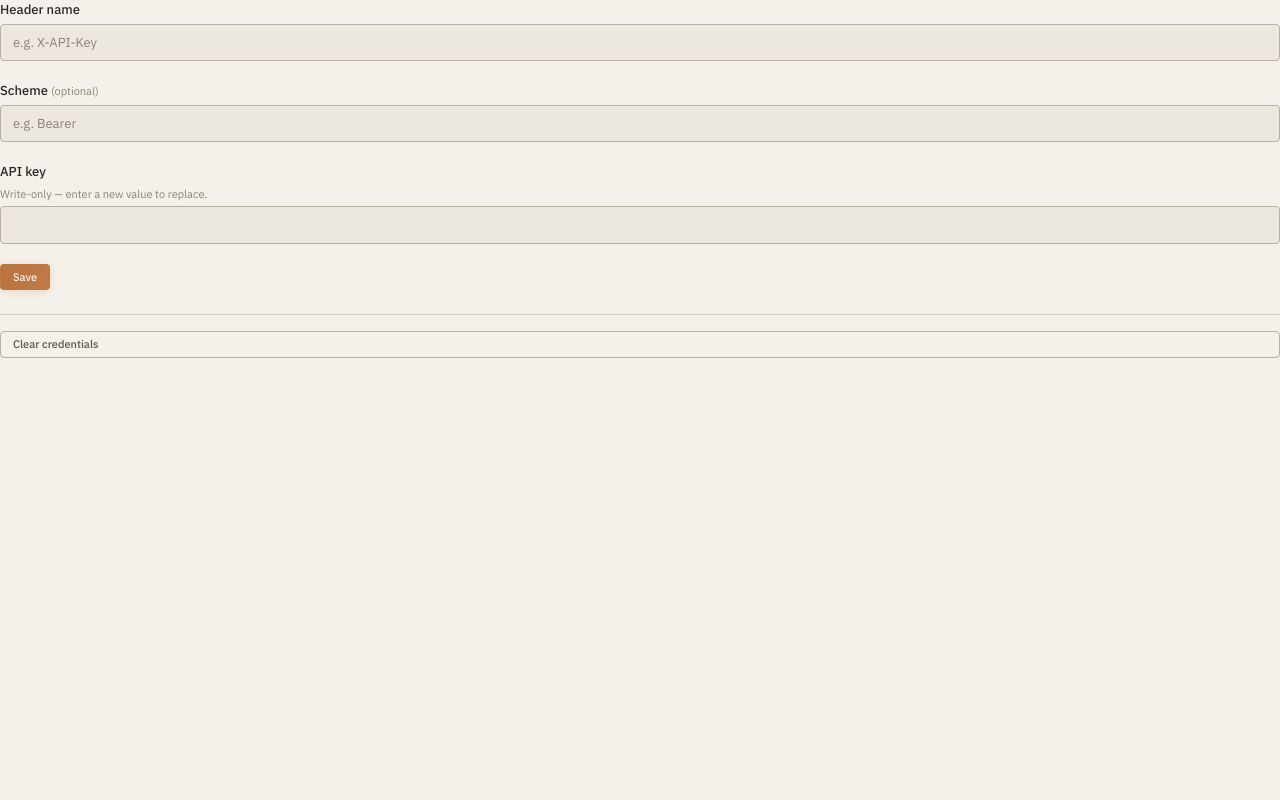
Test: clear credentials › cancel closes the modal without mutating
Click the button "Clear credentials". click: [56, 344]
box: [0, 331, 1279, 358]
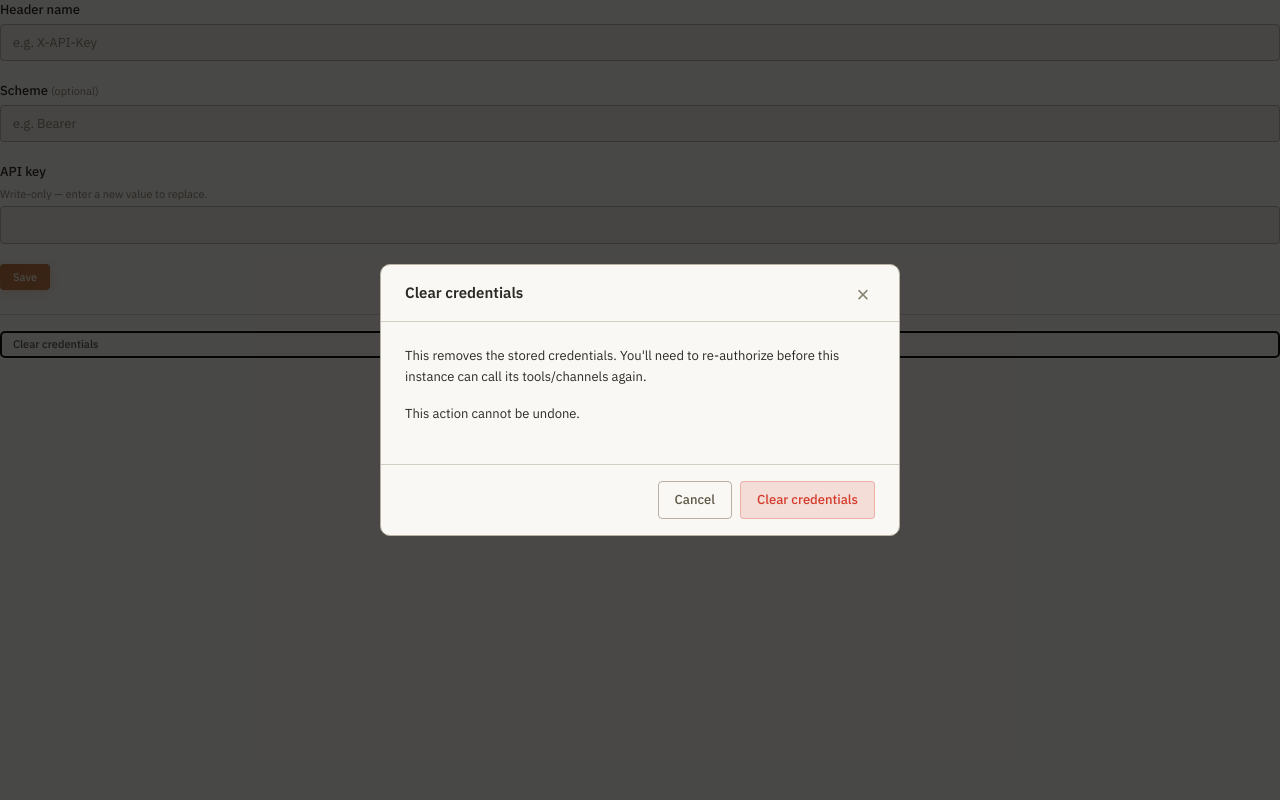
Click the button "Cancel". click: [695, 500]
box: [658, 481, 732, 519]
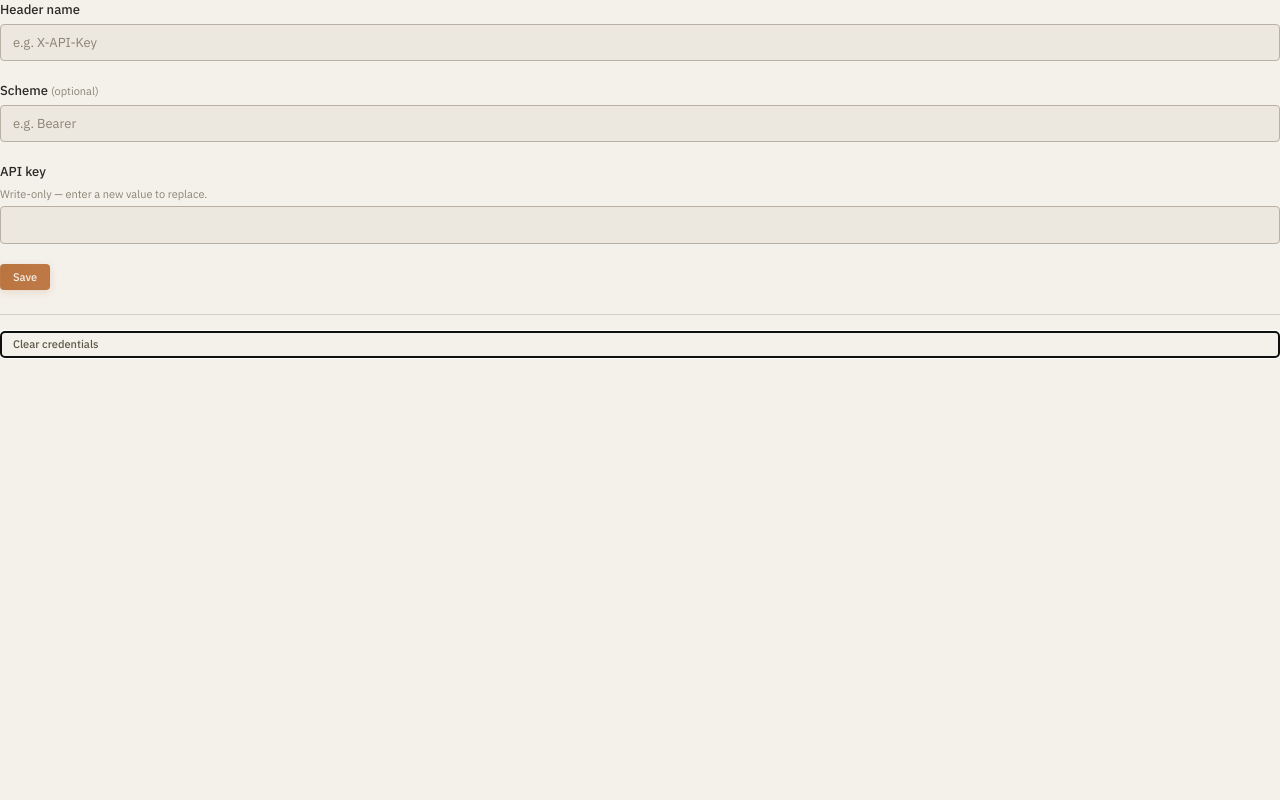
Expected: the text "You'll need to re-authorize" is gone
